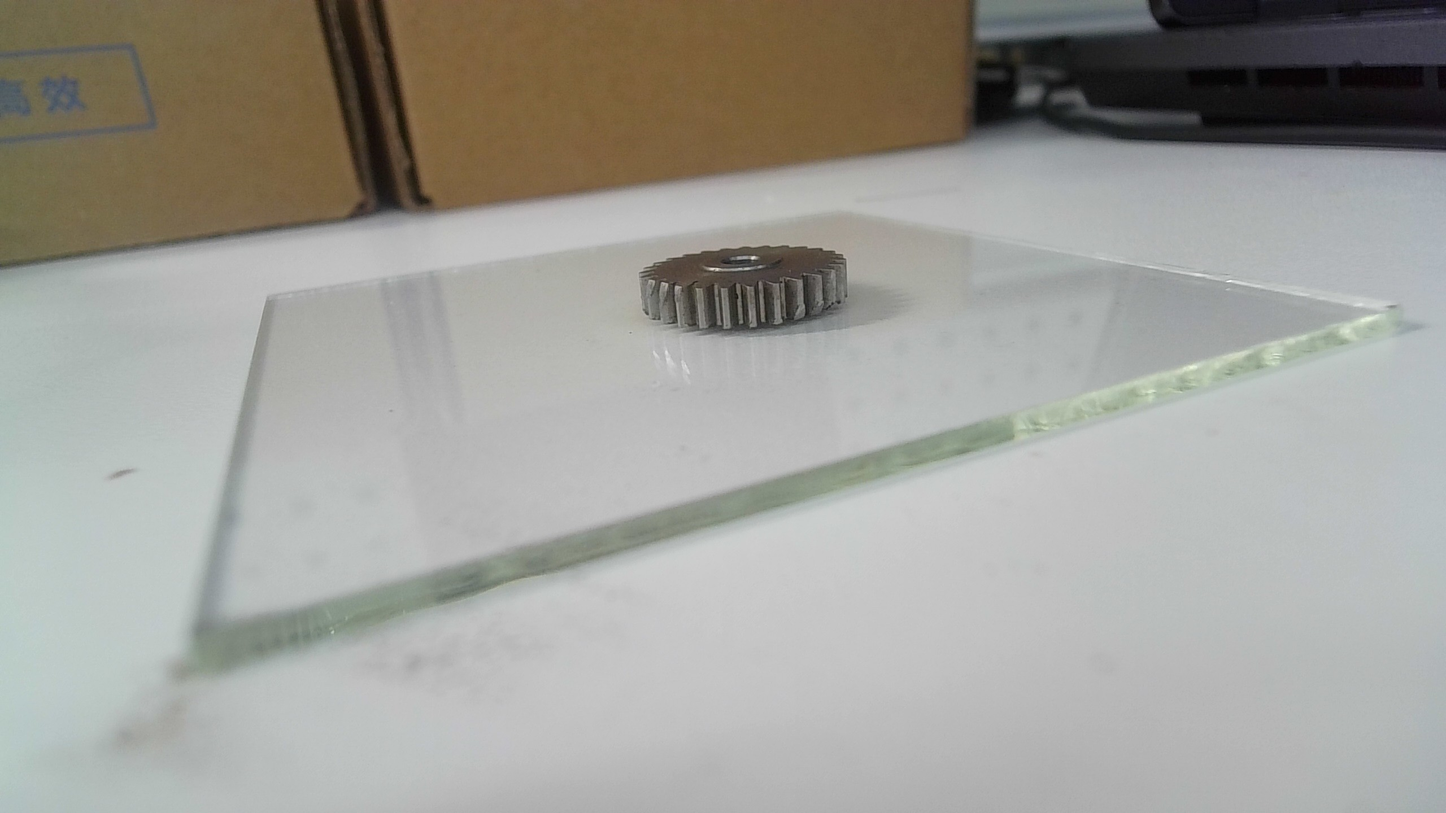gear: (637, 244, 849, 335)
